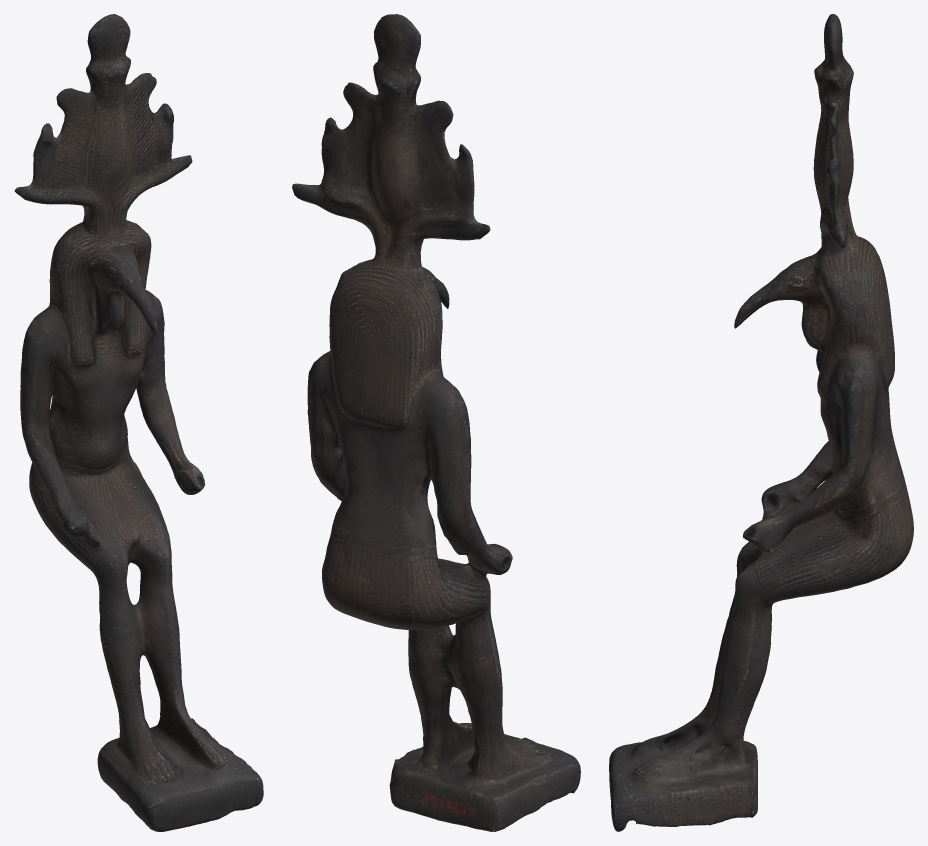
The model's file is thoth_c._644_bce_-_30_ce.glb.
3 views of the same model, side by side, from view 1: azimuth 30°, elevation 25°; view 2: azimuth 150°, elevation 25°; view 3: azimuth 270°, elevation 25° (orthographic). The views are drawn at different scales.
Visible parts, largest first — view 1: Object_2; view 2: Object_2; view 3: Object_2.
Boxes of the visible parts, left/top/right/bottom form: Object_2: left=14, top=14, right=263, bottom=831; Object_2: left=292, top=14, right=580, bottom=831; Object_2: left=609, top=14, right=913, bottom=831.
Bounding box in the file's own units: 0.0917 × 0.375 × 0.1286.
Materials: 1 (1 with a texture image).
